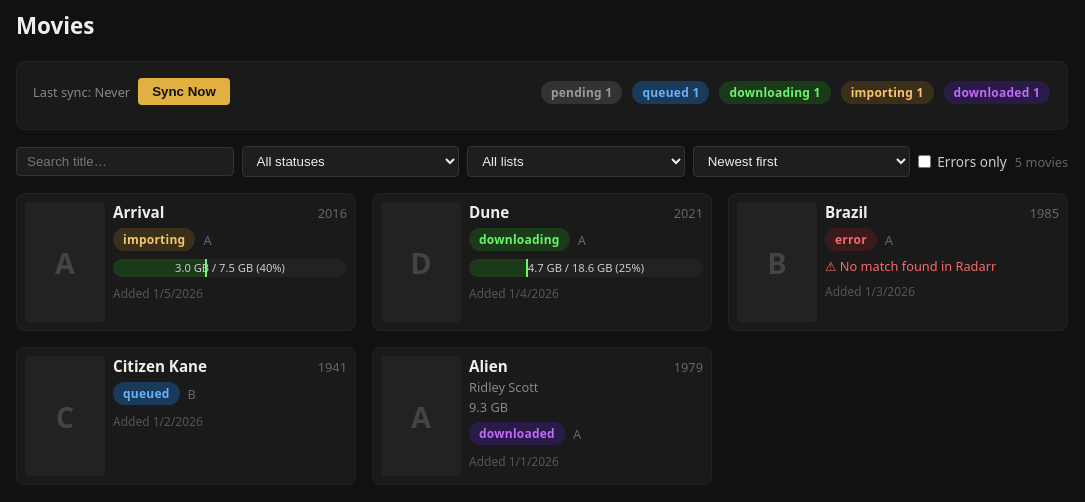
Scenario: clicking a status count chip filters the grid, click again clears it
expect the text "Alien" is shown: met, box x1=469 y1=356 x2=508 y2=376
Step 1. Click the button titled "Show only downloaded movies" → (997, 92), box x1=942 y1=78 x2=1051 y2=104
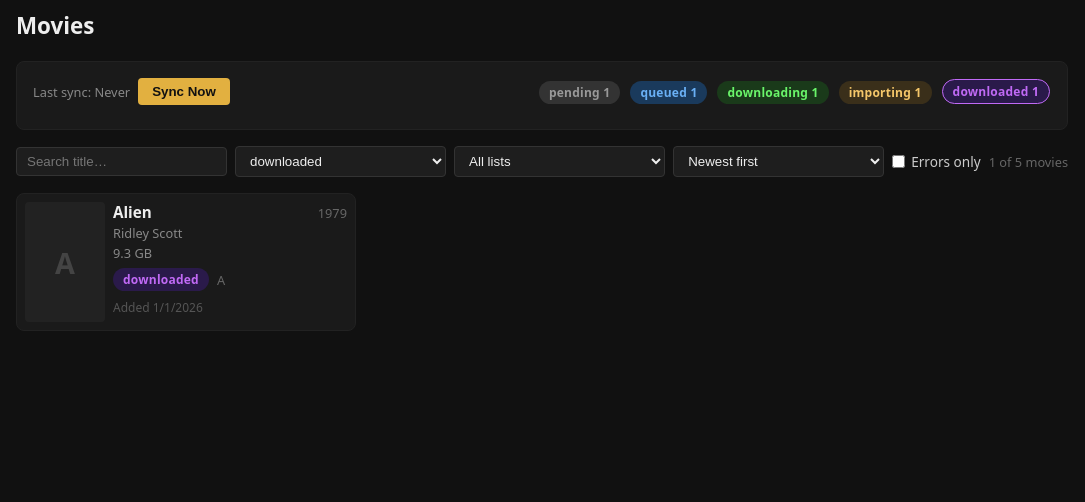
expect the text "Alien" is shown: met, box x1=113 y1=202 x2=152 y2=222
expect the text "Brazil" is gone: met
expect the text "Dune" is gone: met
Step 2. Click the button titled "Show only downloaded movies" → (996, 92), box x1=940 y1=78 x2=1051 y2=105
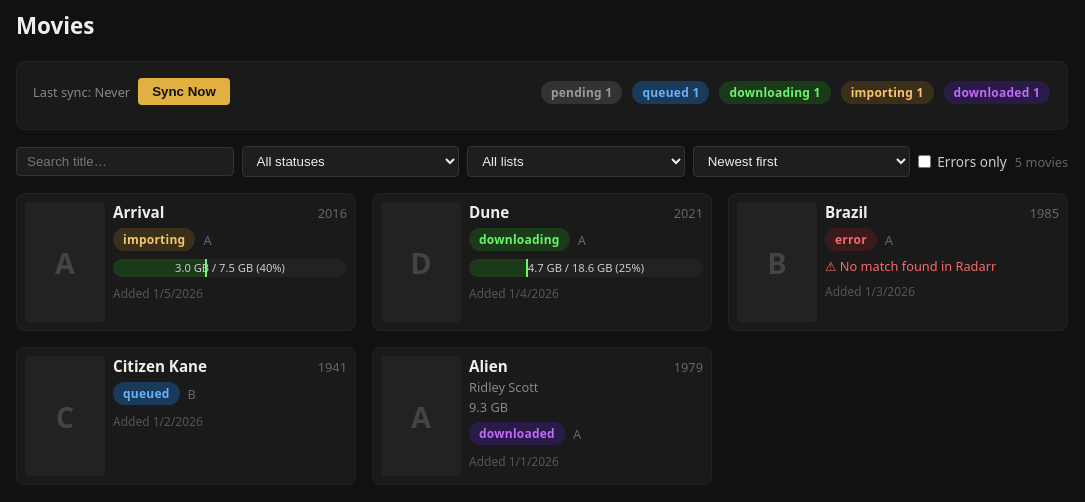
expect the text "Dune" is shown: met, box x1=469 y1=202 x2=509 y2=222
